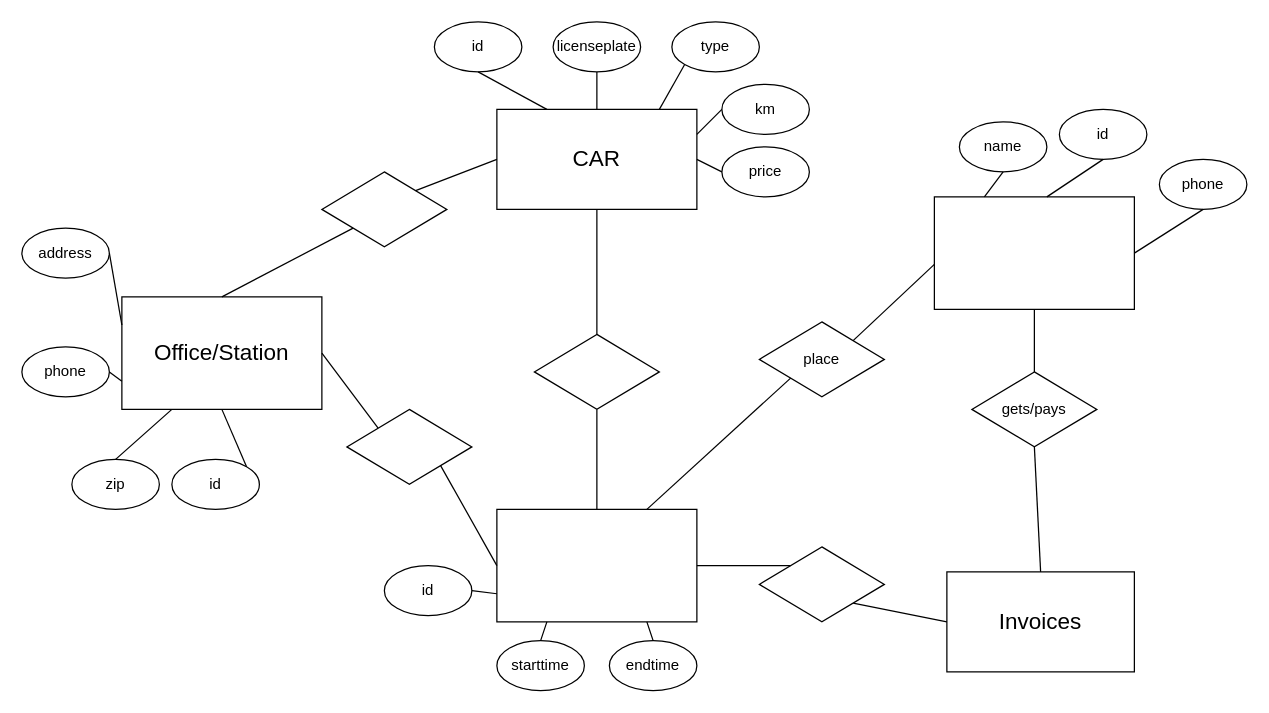
The diagram is 1269 pixels wide and 713 high, and some of its shapes have lost their labels. The centre of each missing label's shape, as x and y in pixels:
"check/manage" goes at (x=409, y=446).
"Customer" goes at (x=1033, y=252).
"rent" goes at (x=596, y=371).
"Reservation" goes at (x=596, y=565).
"stores/ manage" goes at (x=384, y=209).
"to bill" goes at (x=821, y=584).
